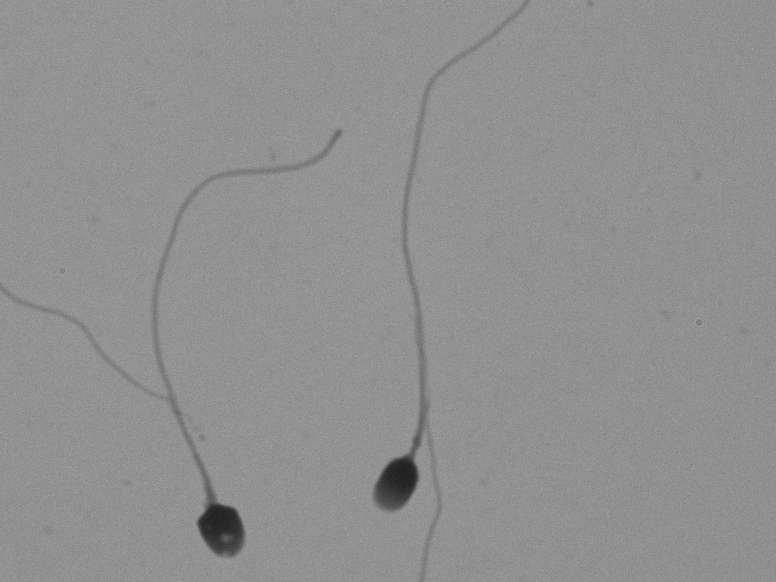Abnormal: (103, 138, 312, 568)
Normal: (350, 19, 509, 534)
